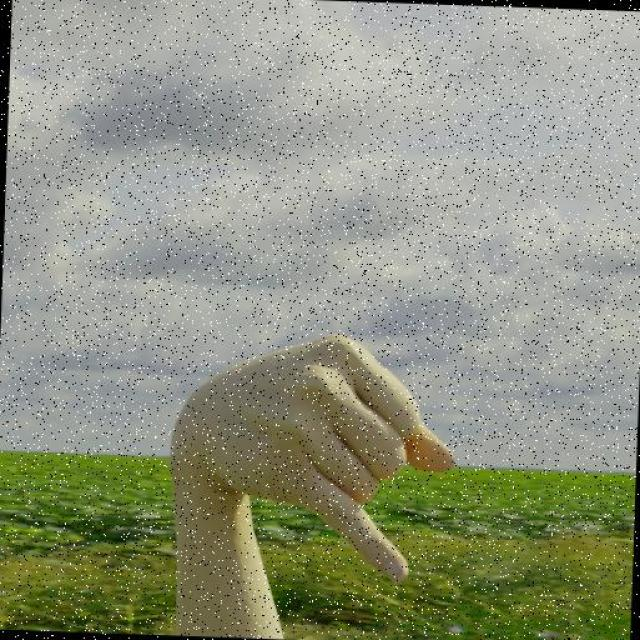J: (167, 324, 461, 587)
